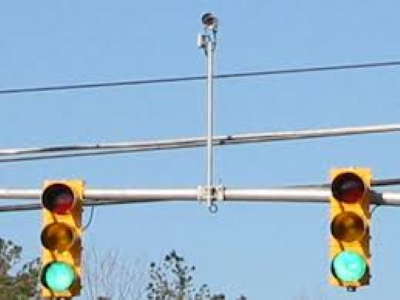trafficlight_green: (328, 169, 369, 285), (41, 181, 78, 295)
